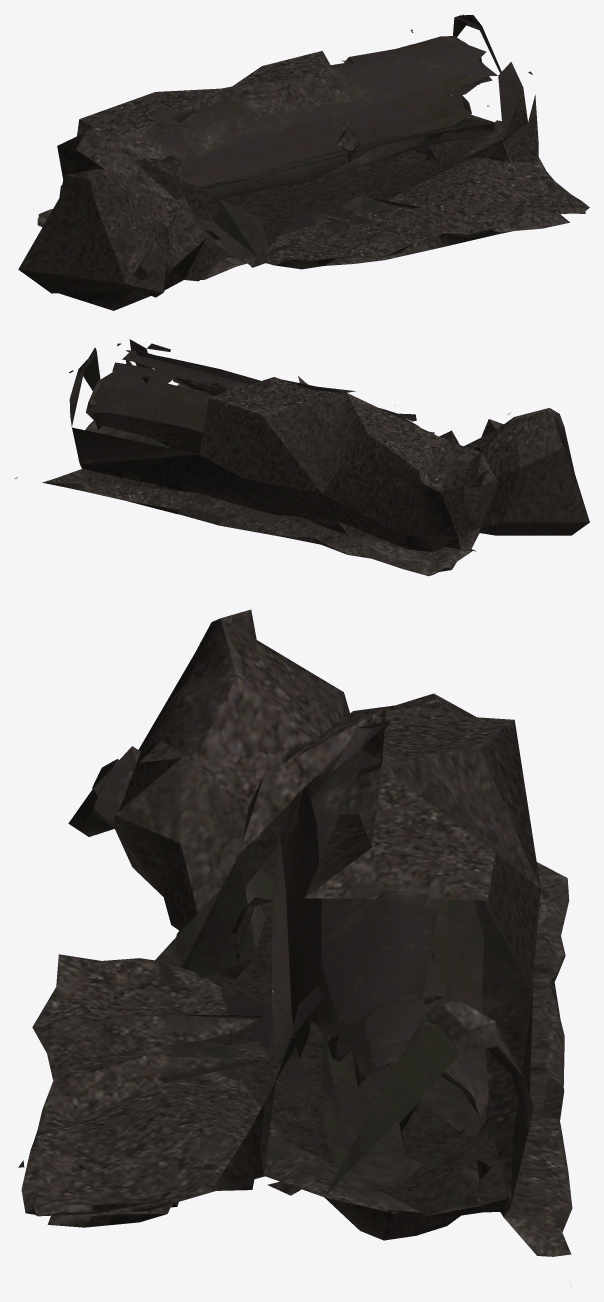
File: m16-bandit-bedroll-pixelated.glb
The picture shows the model from 3 angles, top to bottom: view 1: azimuth 30°, elevation 25°; view 2: azimuth 150°, elevation 25°; view 3: azimuth 270°, elevation 25°; orthographic projection. The views are drawn at different scales.
Parts seen in each view (by area): view 1: m16-bandit-bedroll.glb; view 2: m16-bandit-bedroll.glb; view 3: m16-bandit-bedroll.glb.
Boxes of the visible parts, x1,y1,x2,y2 form: m16-bandit-bedroll.glb: [18, 14, 589, 310]; m16-bandit-bedroll.glb: [14, 339, 589, 576]; m16-bandit-bedroll.glb: [18, 609, 572, 1285].
Bounding box in the file's own units: 1.88 × 0.4337 × 0.9156.
1 material, 1 textured.
